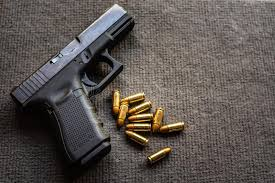Gun: (5, 5, 203, 179)
